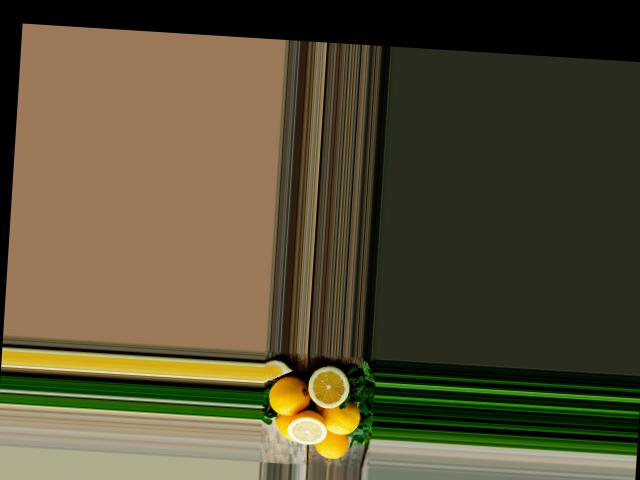lemon: (272, 411, 297, 440)
